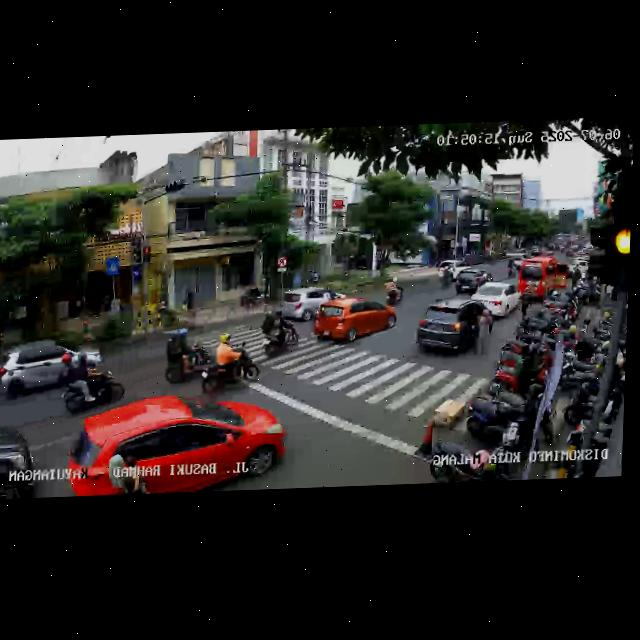car: (68, 391, 289, 496), (0, 335, 102, 403), (313, 293, 396, 350), (415, 299, 482, 361), (0, 415, 37, 500), (518, 255, 572, 302), (284, 287, 346, 323), (472, 281, 521, 320), (454, 268, 493, 296), (437, 258, 467, 287)
motorcycle: (59, 343, 123, 417), (201, 330, 261, 397), (161, 326, 212, 387), (259, 306, 300, 358), (383, 274, 403, 304)
